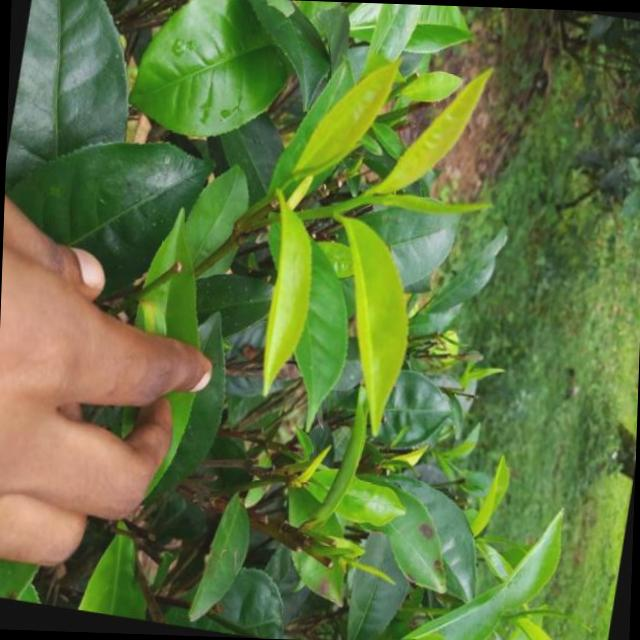Stem: (334, 192, 368, 211)
